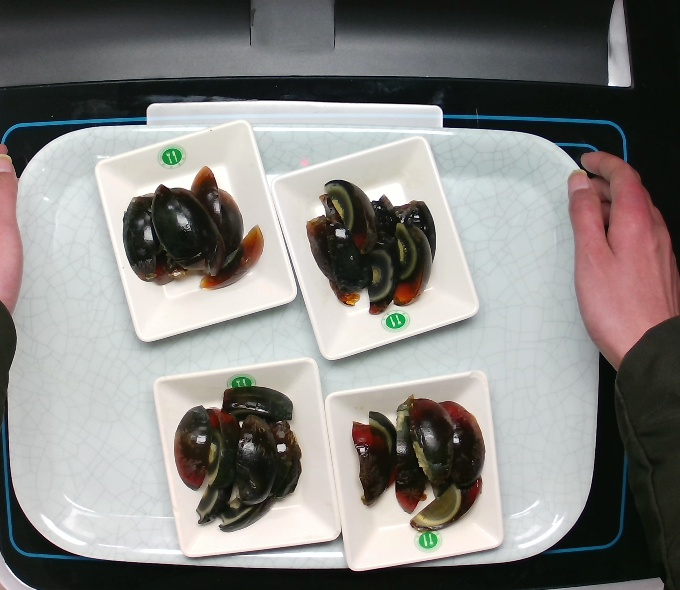wcq-PiDan: (165, 368, 307, 532), (345, 380, 492, 535), (115, 156, 272, 296), (299, 166, 440, 319)
